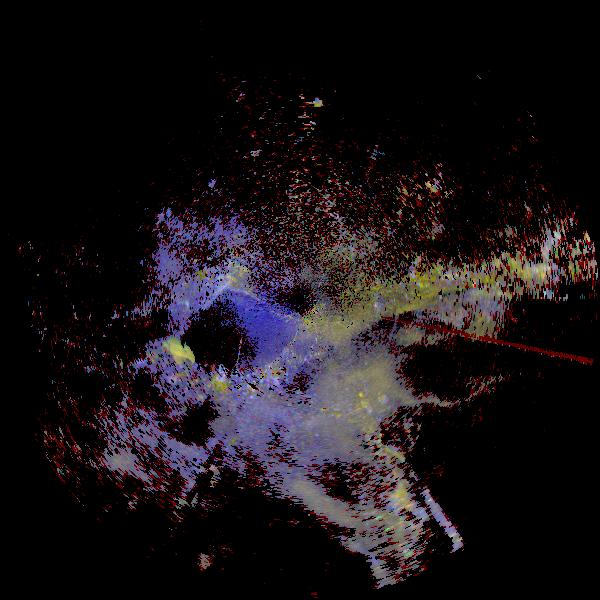roost: (135, 328, 204, 397), (172, 364, 217, 409), (90, 350, 129, 389)
